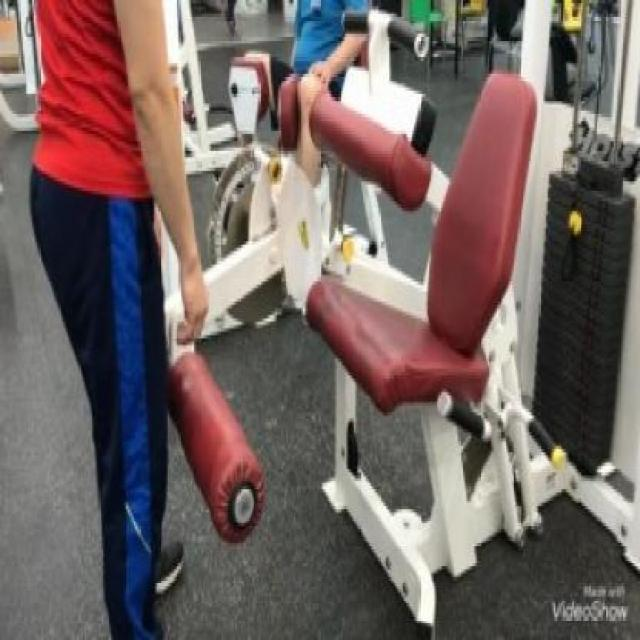leg extension: (118, 0, 640, 640)
